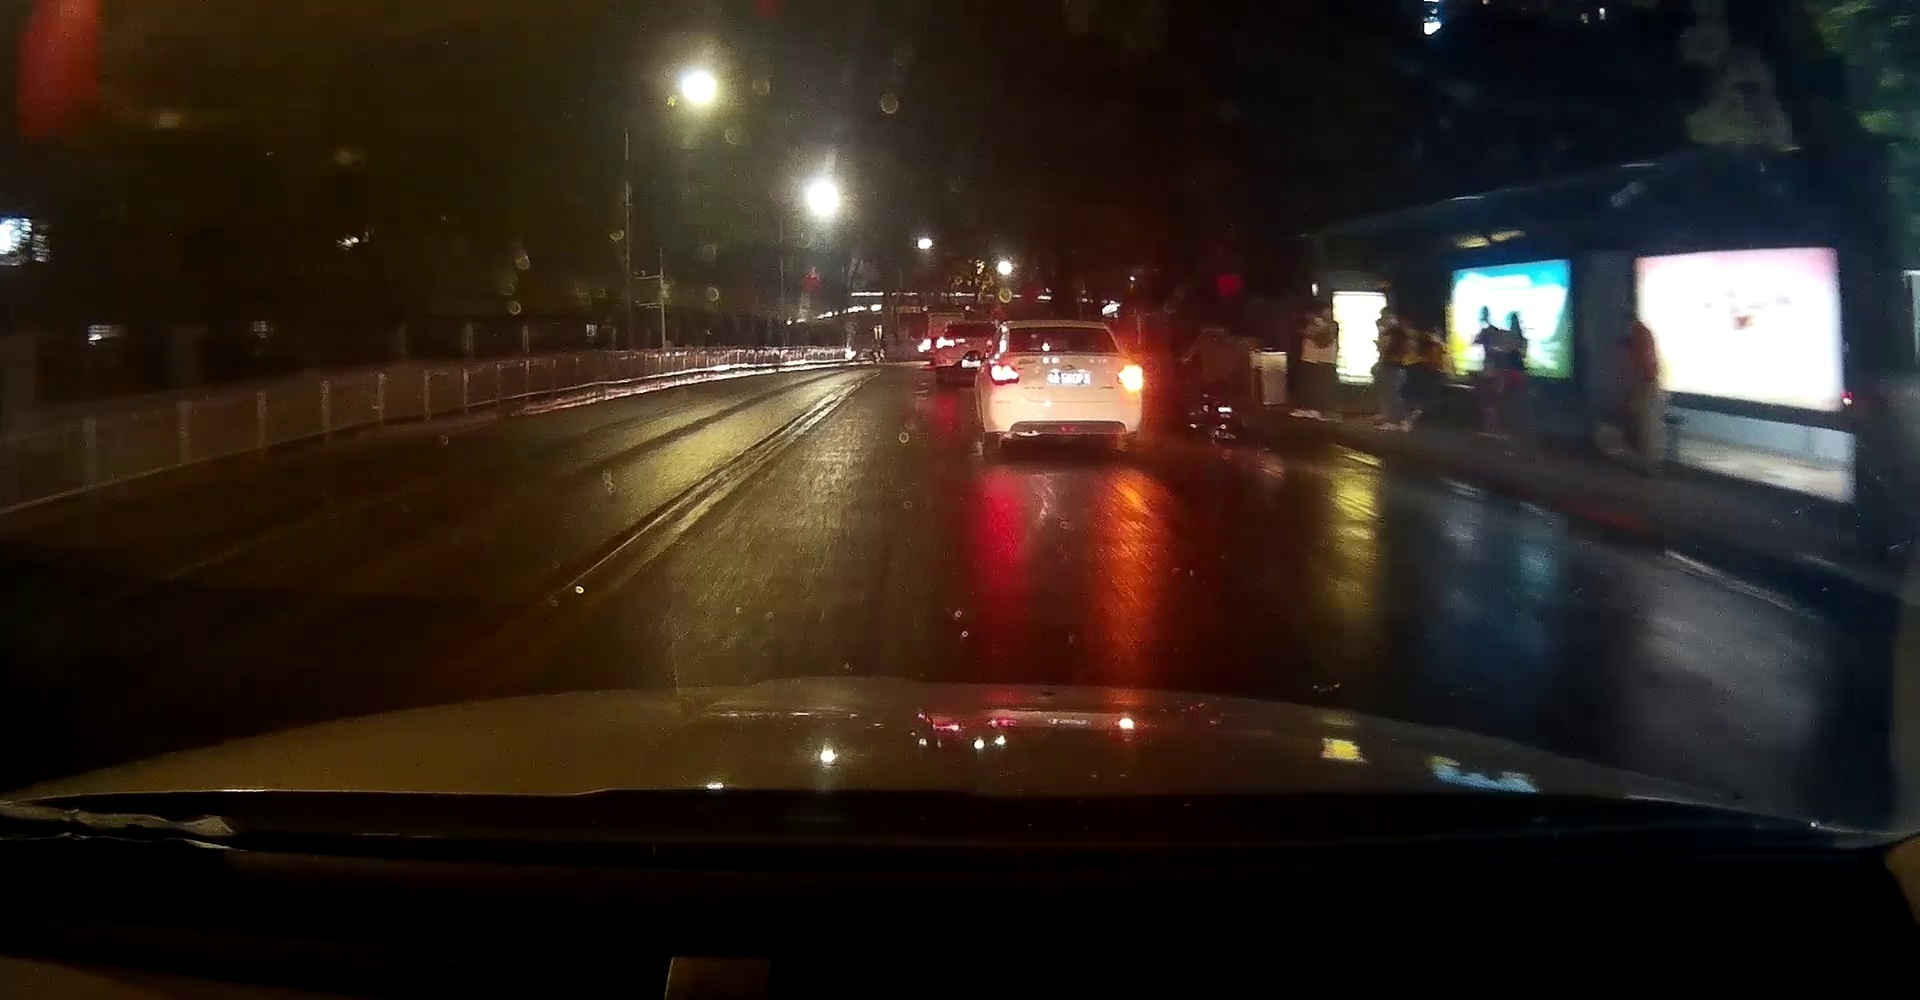L_light: (988, 364, 1020, 387)
R_light: (1117, 365, 1142, 385)
T_light: (1049, 327, 1076, 332)
night-right: (982, 319, 1143, 451)
